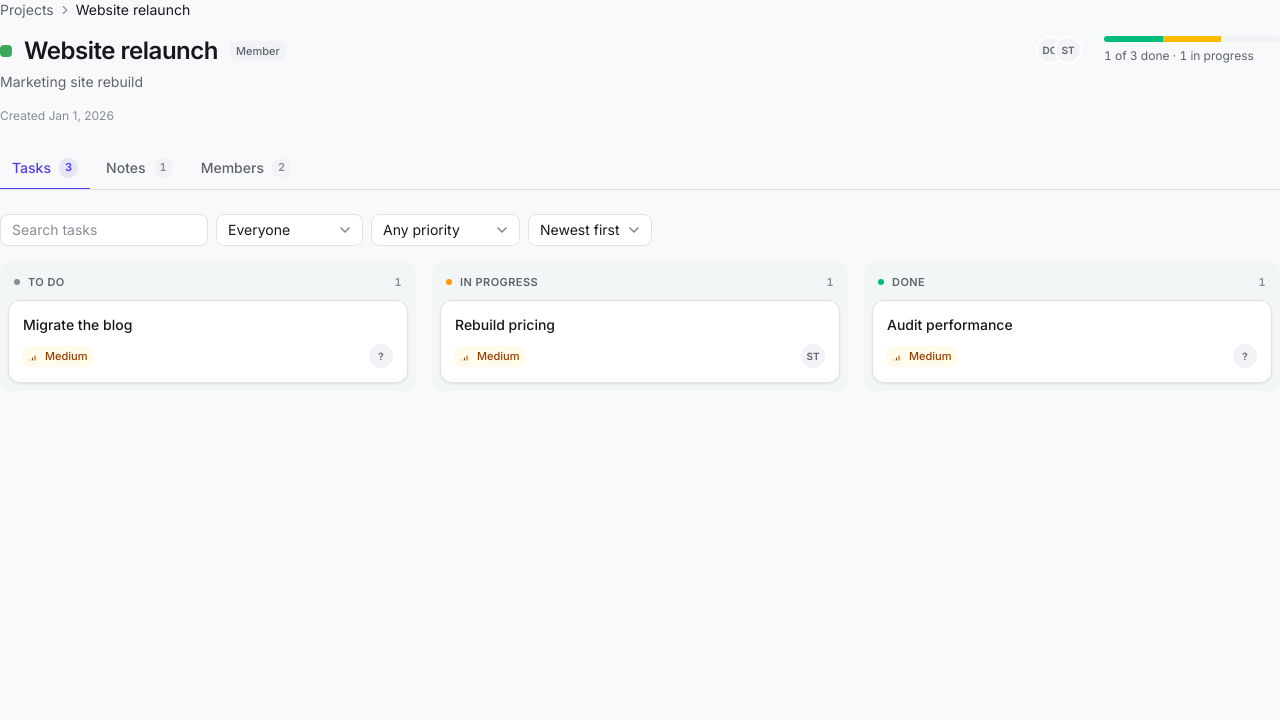
it: ProjectDetail › shows a member the attachment but no way to remove it
Click the button "Migrate the blog".
click(78, 324)  # box left=23, top=315, right=393, bottom=334
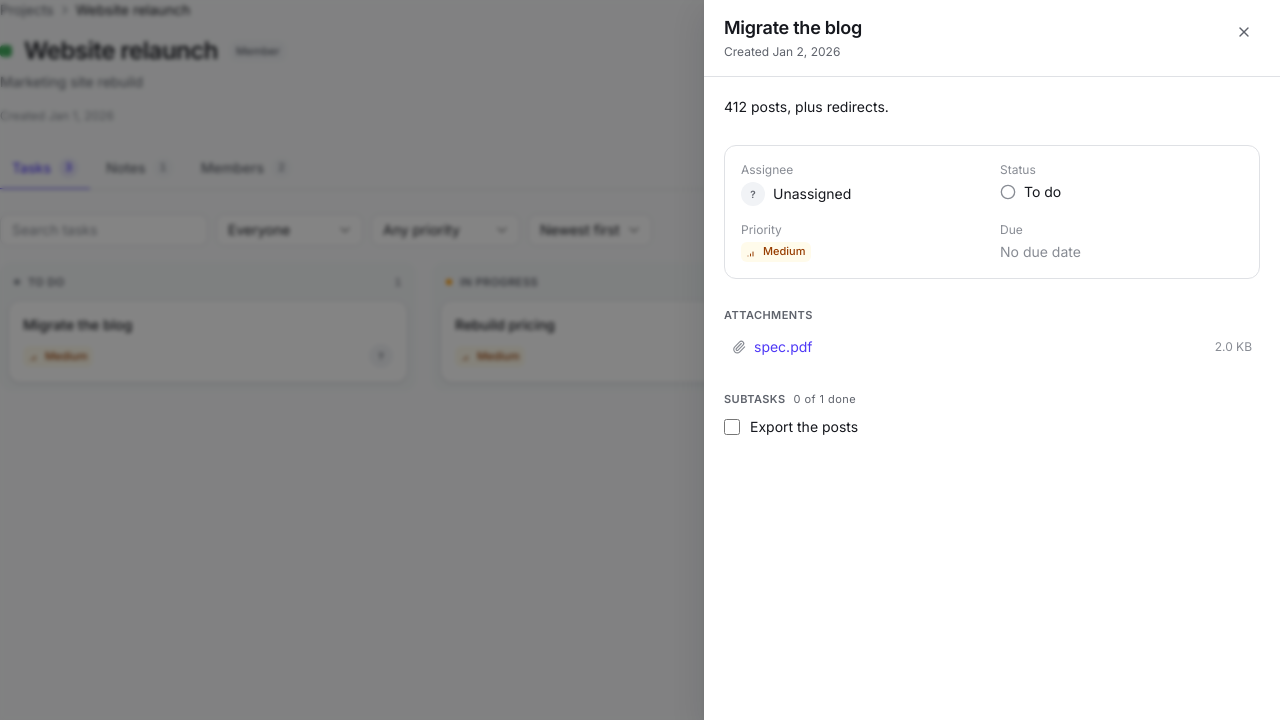
Result: the link "spec.pdf" is shown at left=754, top=338, right=812, bottom=355
